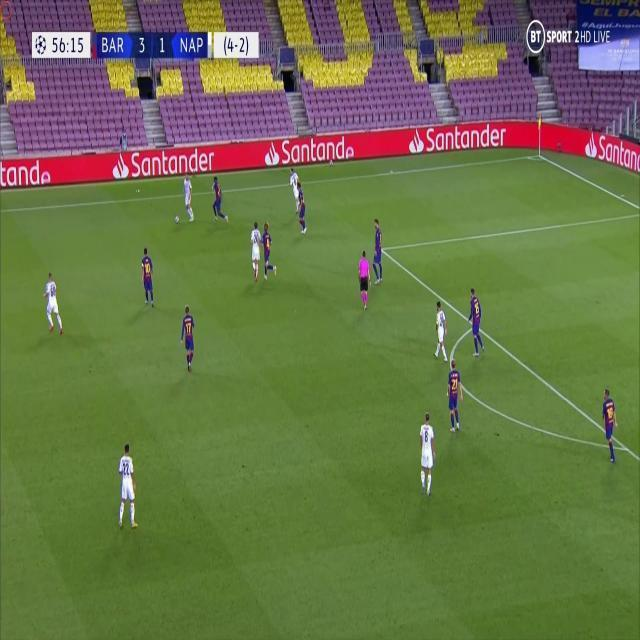ball: (174, 212, 180, 225)
player: (116, 441, 139, 531), (417, 409, 437, 496), (601, 383, 619, 463), (42, 271, 64, 336), (466, 284, 485, 357), (445, 358, 463, 434), (179, 303, 197, 373), (370, 215, 385, 285), (434, 299, 450, 362), (261, 220, 277, 282), (140, 247, 156, 309), (210, 175, 229, 225), (248, 219, 262, 281), (182, 172, 196, 223), (297, 185, 309, 236), (289, 167, 302, 211)
referee: (356, 247, 371, 311)
